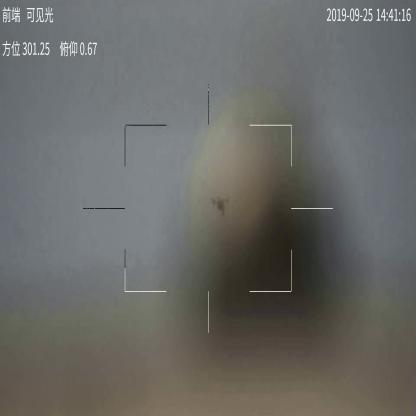uav: (208, 194, 230, 217)
